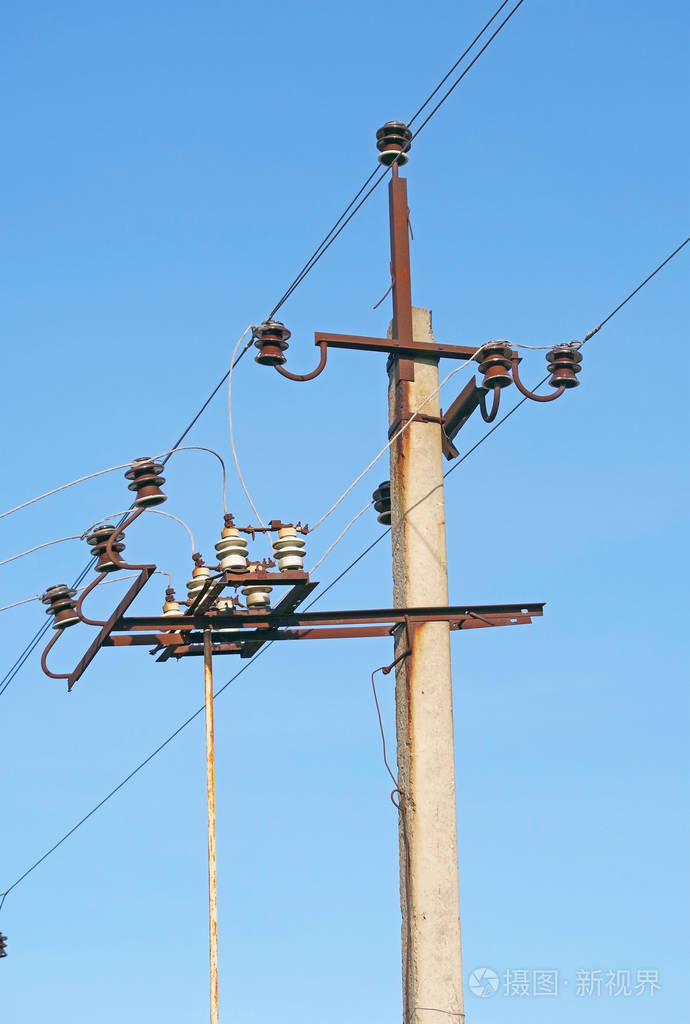insulator: (471, 339, 520, 392), (251, 318, 295, 371), (37, 580, 90, 624), (541, 343, 582, 392), (122, 460, 172, 498), (82, 522, 127, 564), (372, 125, 418, 163)
